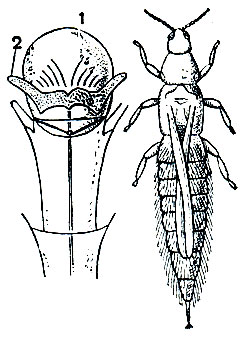Phlaeothripidae: (124, 1, 237, 334)
